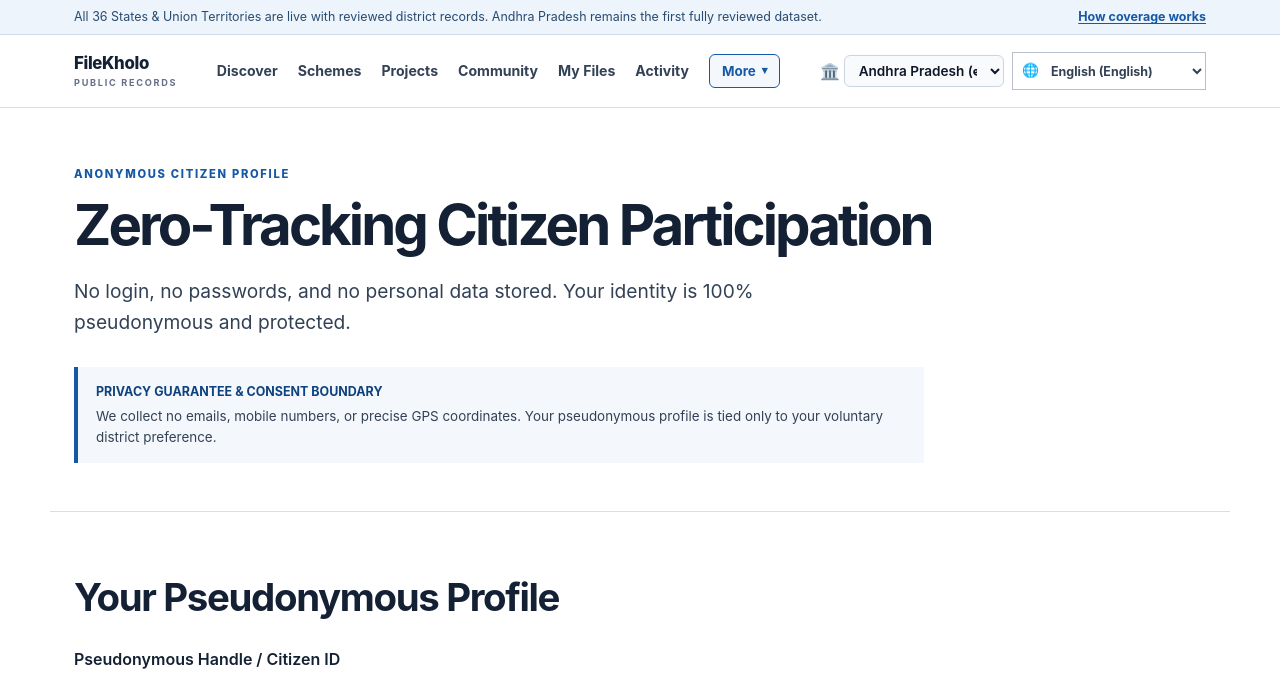
AccountContent › switches anonymous account copy to Telugu
Select "తెలుగు (Telugu)" in the dropdown named "Select language" at (1122, 71), box x1=1039 y1=53 x2=1205 y2=89
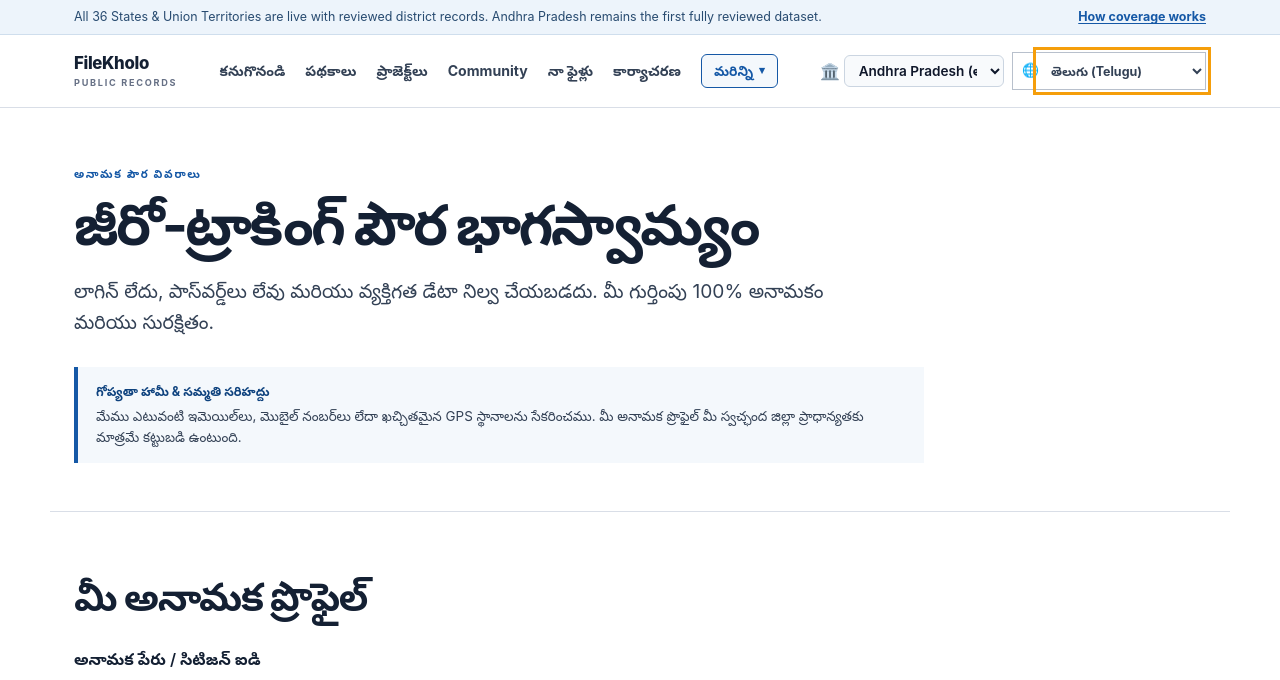
Check: the heading "జీరో-ట్రాకింగ్ పౌర భాగస్వామ్యం" is shown, box x1=74 y1=190 x2=758 y2=259
